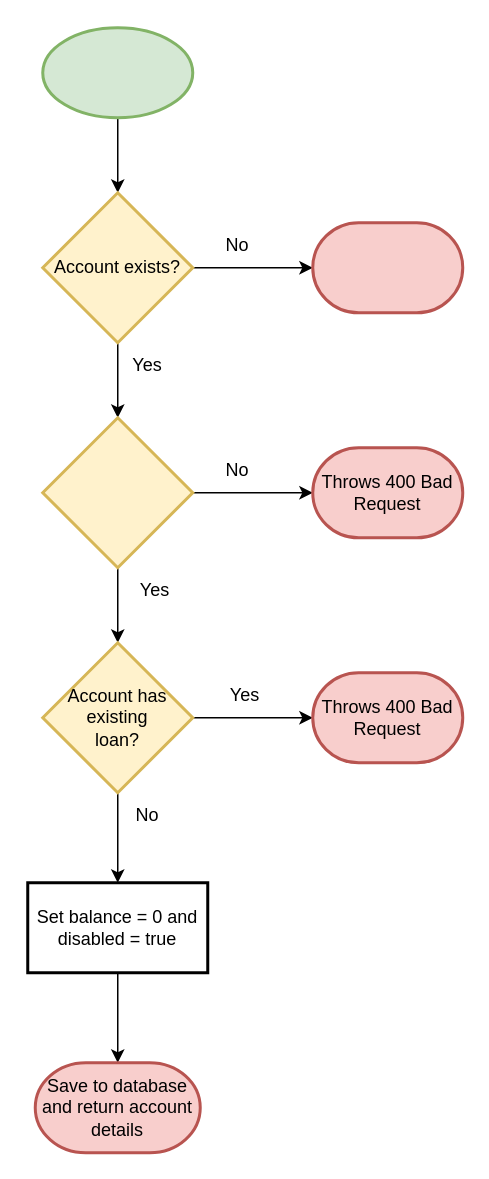
This 489x1179 diagram has some shape labels left out. Here are the shapes that lost their labels. From the top down, the centre of each, then its label:
point (117, 72): /disable-account/accNo
point (387, 267): Throws 404 Not Found exception
point (117, 492): Account enabled?
